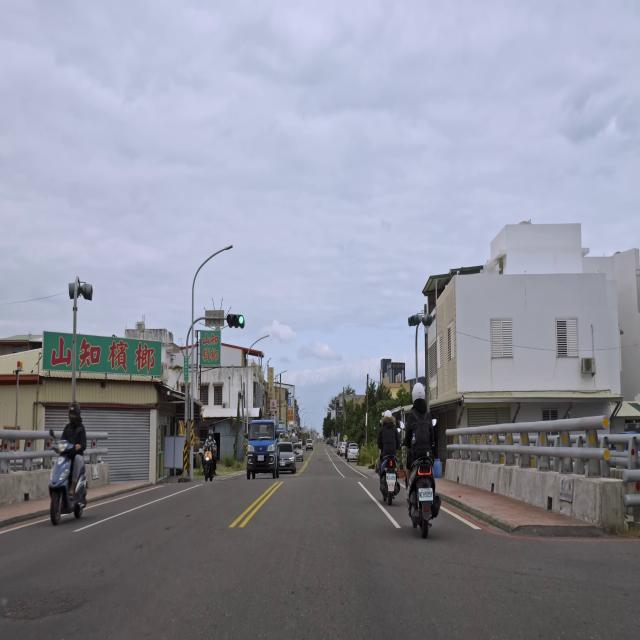green light: (226, 314, 245, 328)
